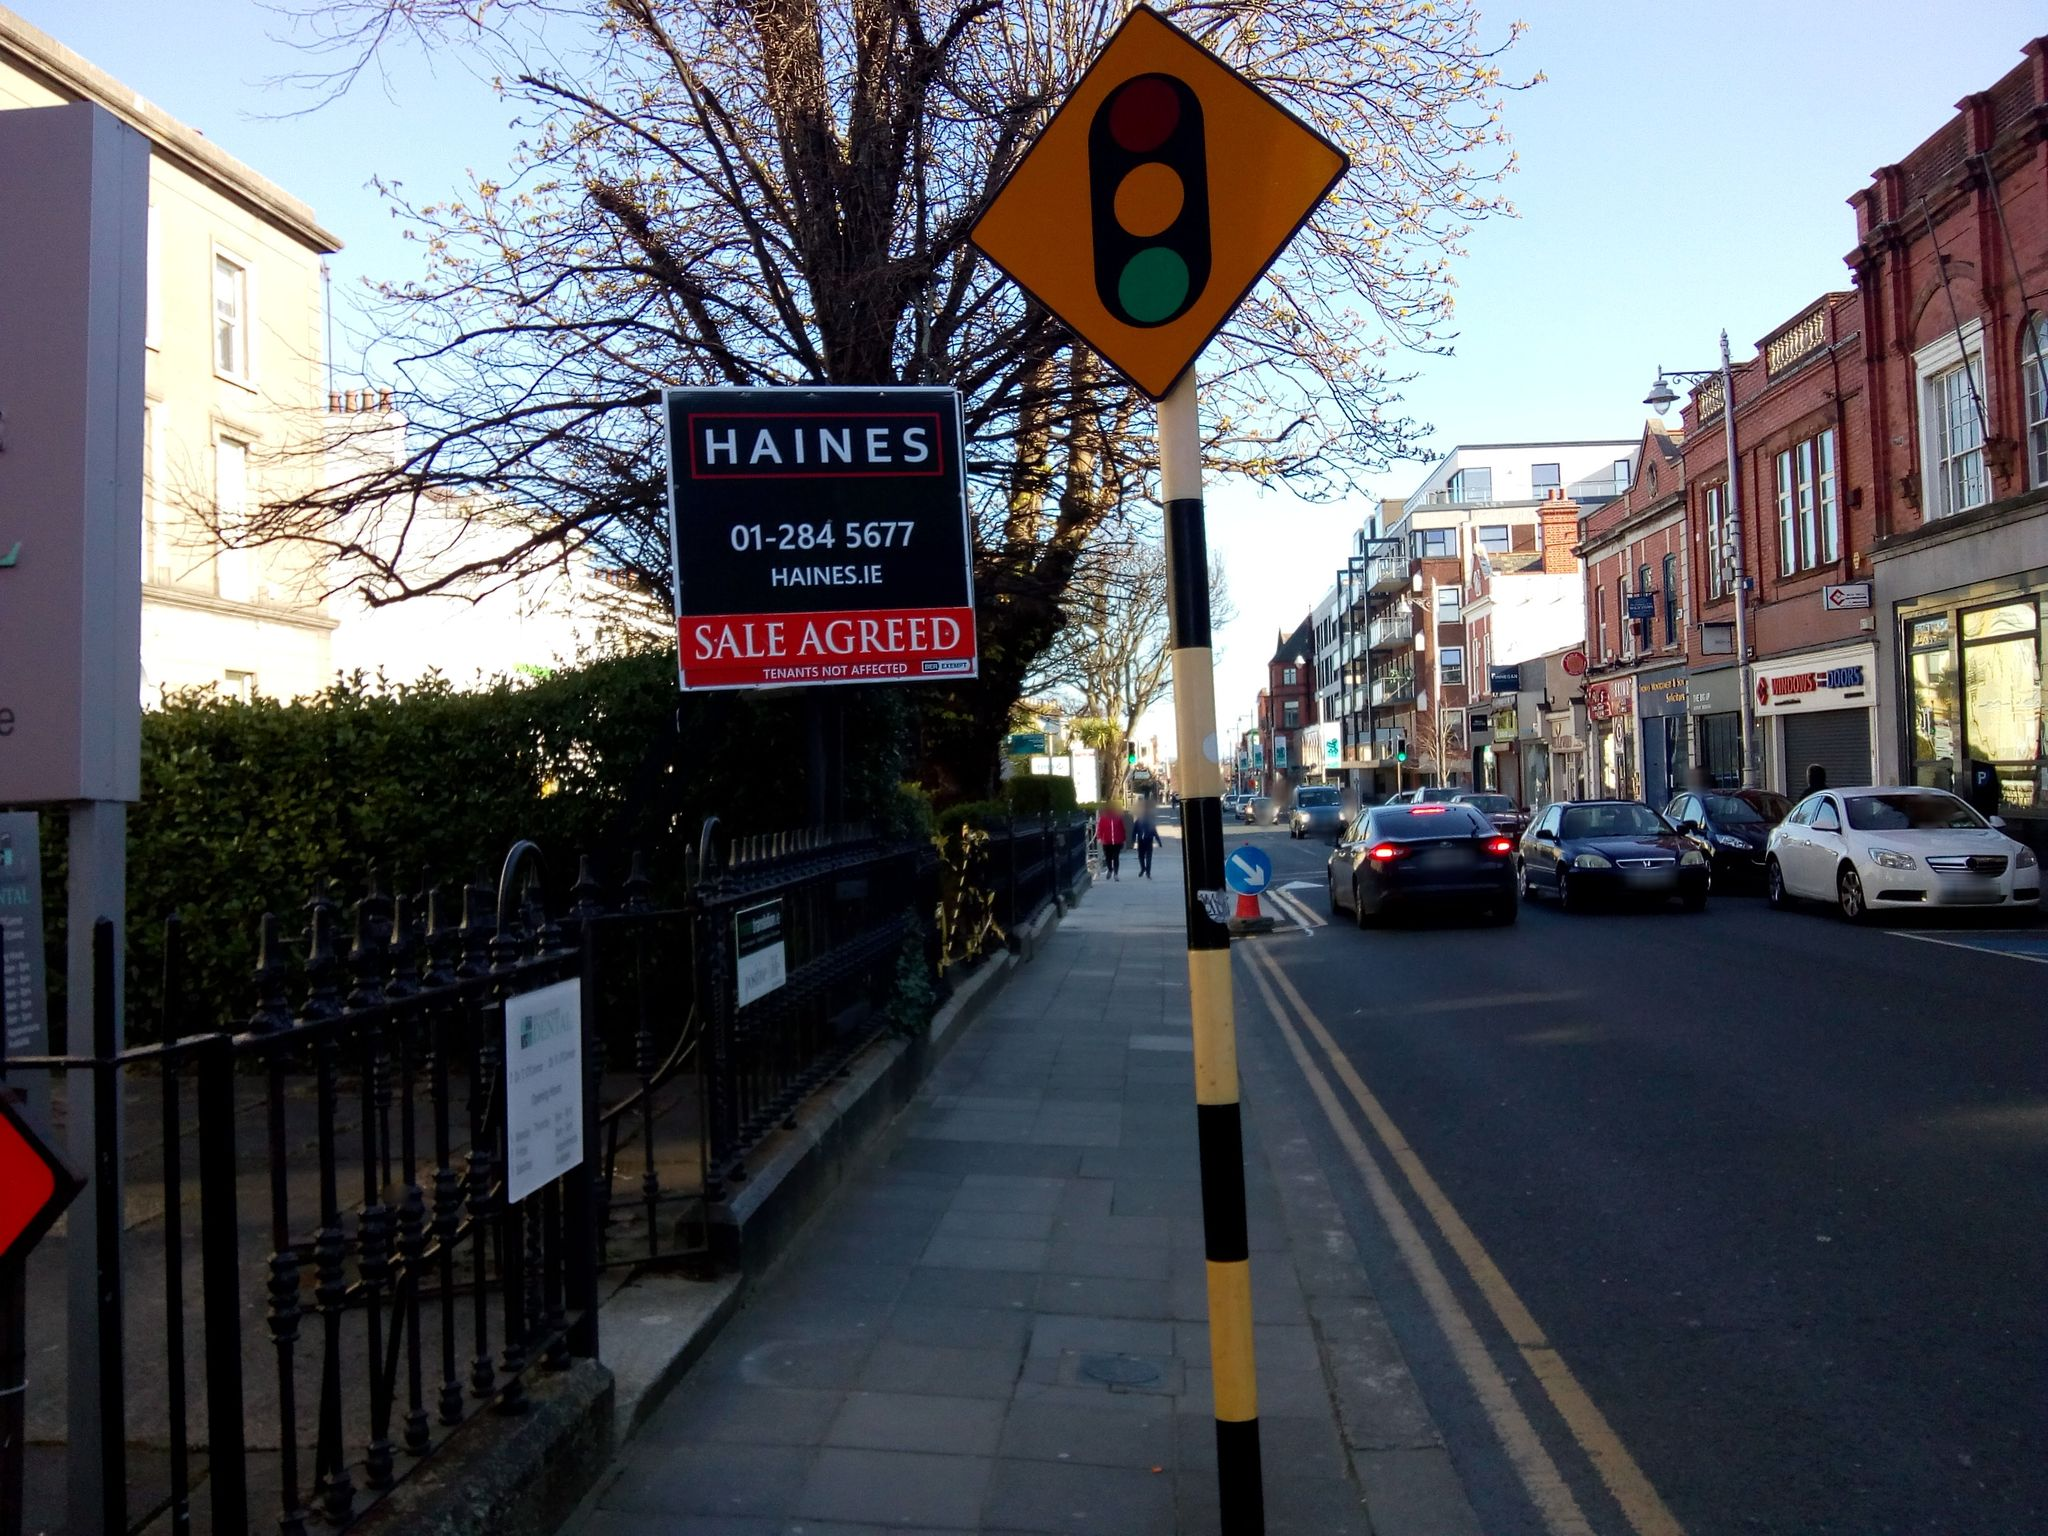property sign: (621, 352, 1008, 715)
